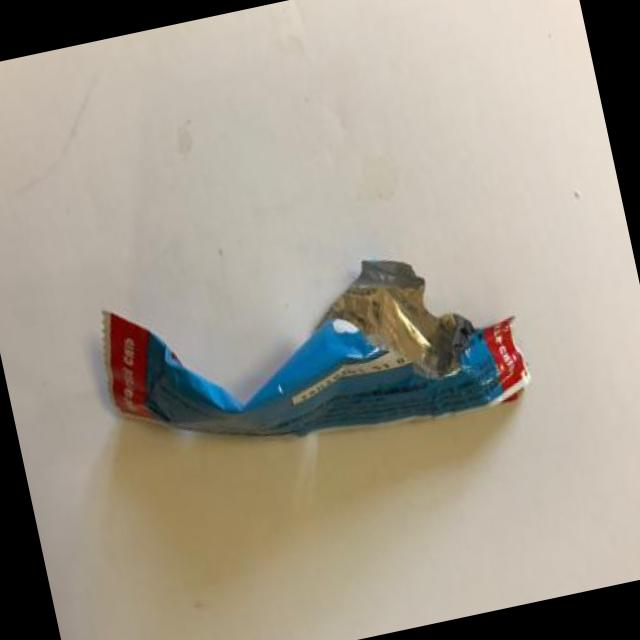giay_goi: (101, 261, 528, 436)
